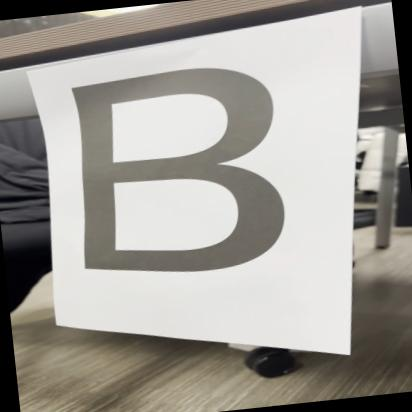seat: (52, 50, 314, 290)
